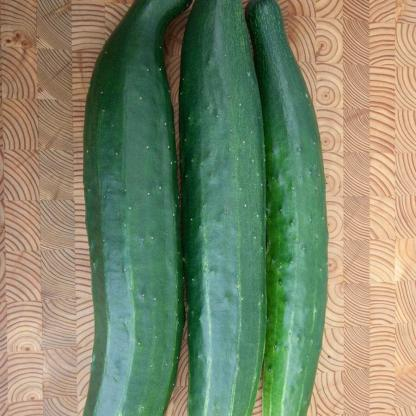--: (67, 0, 198, 416), (243, 4, 334, 416), (181, 4, 271, 416)
